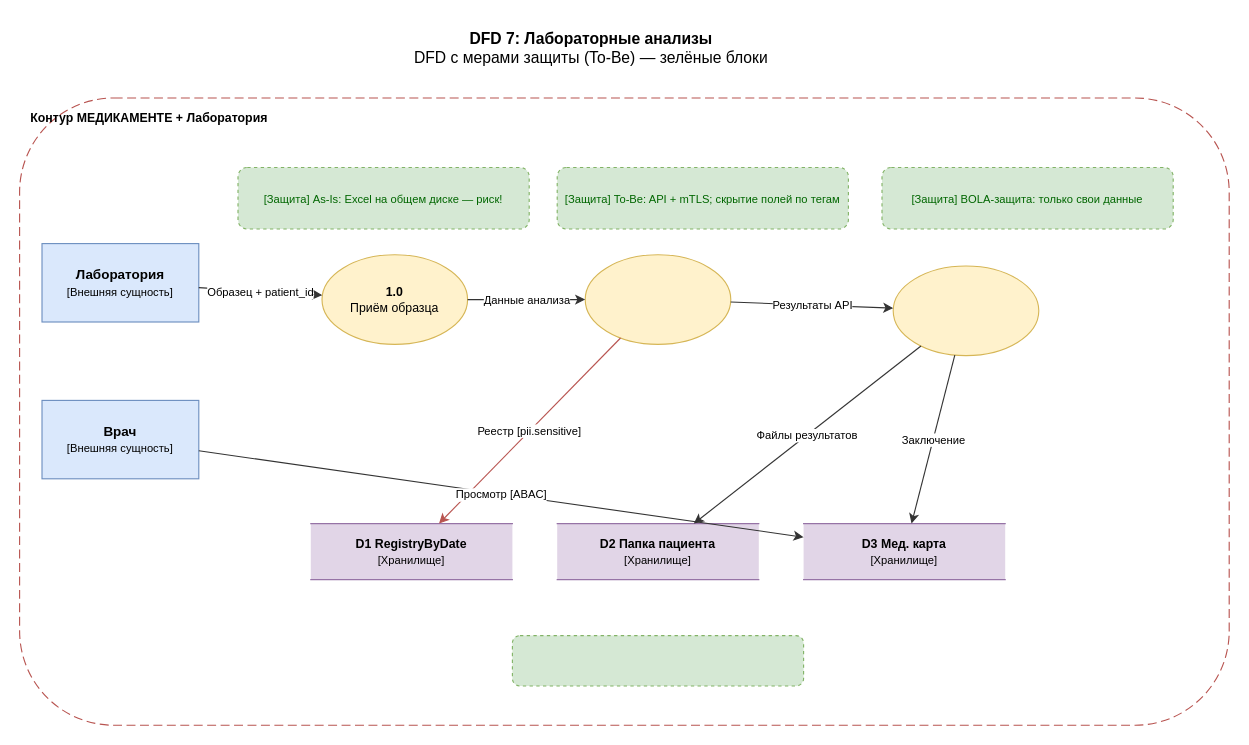
Some shapes in this 1249 by 745 pixel diagram are drawn without their labels. Each missing label, with the centre of its shape:
"2.0 Обработка результатов" goes at pixel 657 299.
"3.0 Привязка к пациенту" goes at pixel 965 310.
"[Защита] Обезличивание для BI/ML" goes at pixel 657 660.
